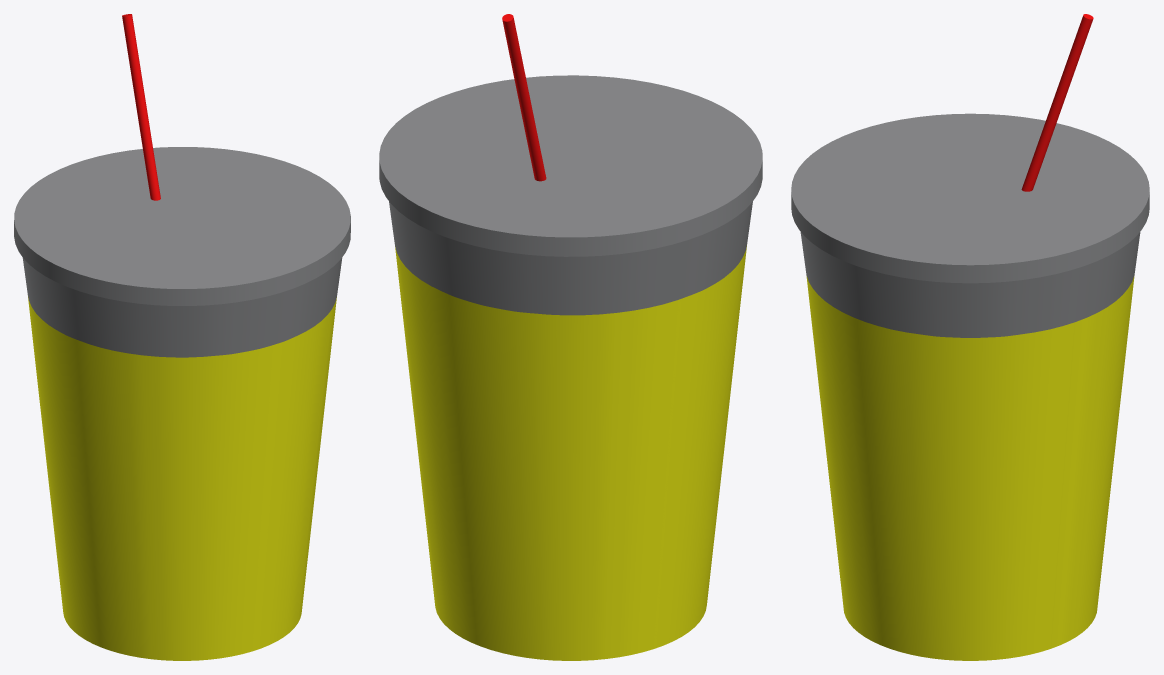
The picture shows the model from 3 angles, left to right: view 1: azimuth 30°, elevation 25°; view 2: azimuth 150°, elevation 25°; view 3: azimuth 270°, elevation 25°; orthographic projection. The views are drawn at different scales.
Visible parts, largest first — view 1: body, skirt, rod; view 2: body, skirt, rod; view 3: body, skirt, rod.
Part boxes in pixels (x1=…): body: x1=28, y1=297, x2=336, y2=660; skirt: x1=14, y1=147, x2=350, y2=357; rod: x1=122, y1=14, x2=160, y2=200; body: x1=395, y1=246, x2=746, y2=660; skirt: x1=379, y1=75, x2=762, y2=315; rod: x1=502, y1=14, x2=546, y2=181; body: x1=806, y1=276, x2=1134, y2=660; skirt: x1=791, y1=113, x2=1149, y2=337; rod: x1=1021, y1=14, x2=1093, y2=191.
Bounding box in the file's own units: 0.0988 × 0.18 × 0.0988.
